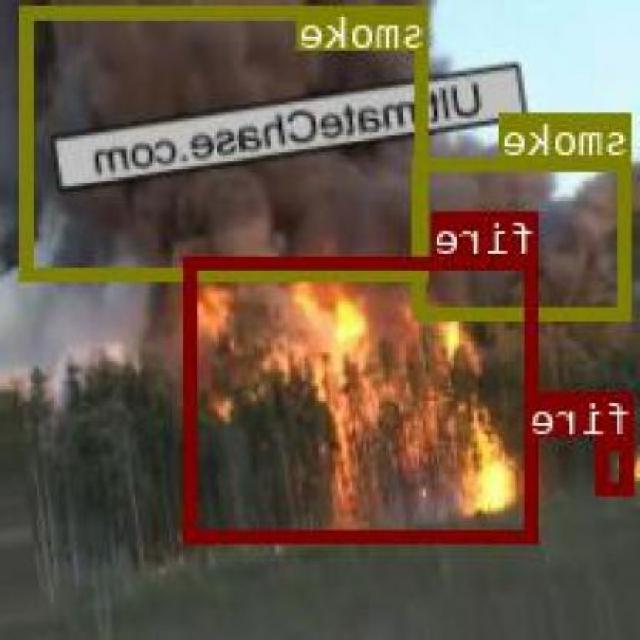Fire: (162, 300, 510, 522)
Smoke: (10, 0, 482, 288), (400, 142, 638, 330)
